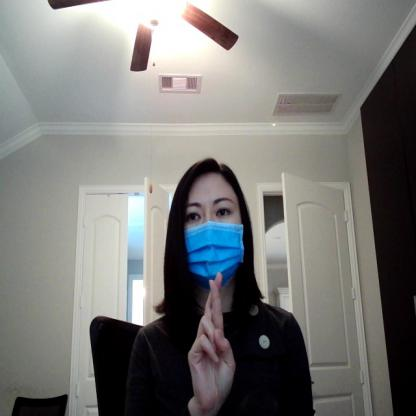right: (184, 270, 240, 414)
